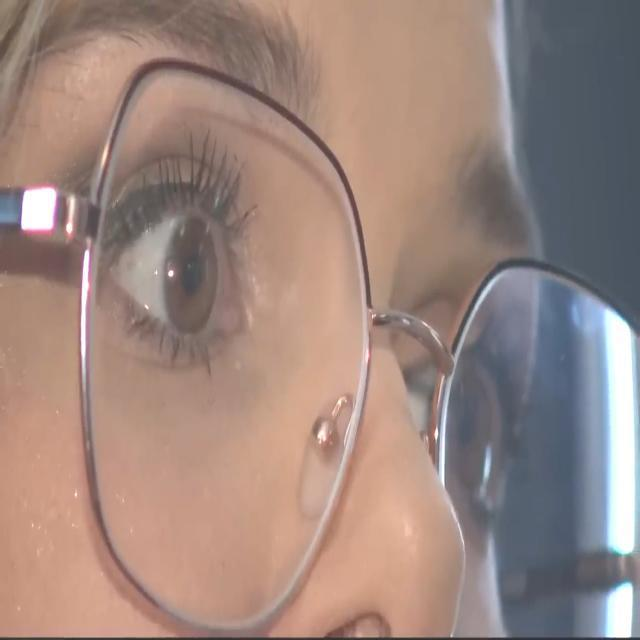non-fight: (0, 2, 550, 616)
